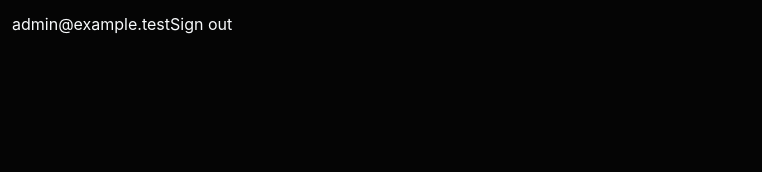
Test: administrator interface › shows an unconfirmed server revocation rather than claiming successful logout
Click the button "Sign out": (201, 24) [170,12,232,36]
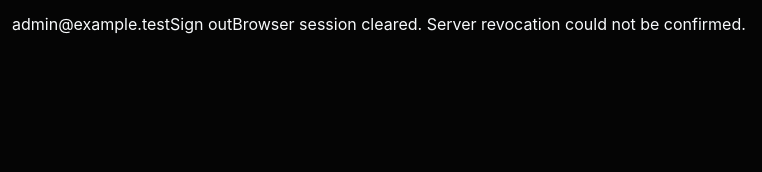
Result: the message shows "revocation could not be confirmed" at [232,14,746,34]
